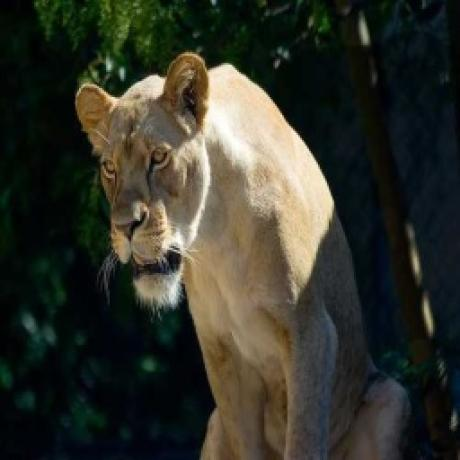Lion: (73, 48, 415, 460)
